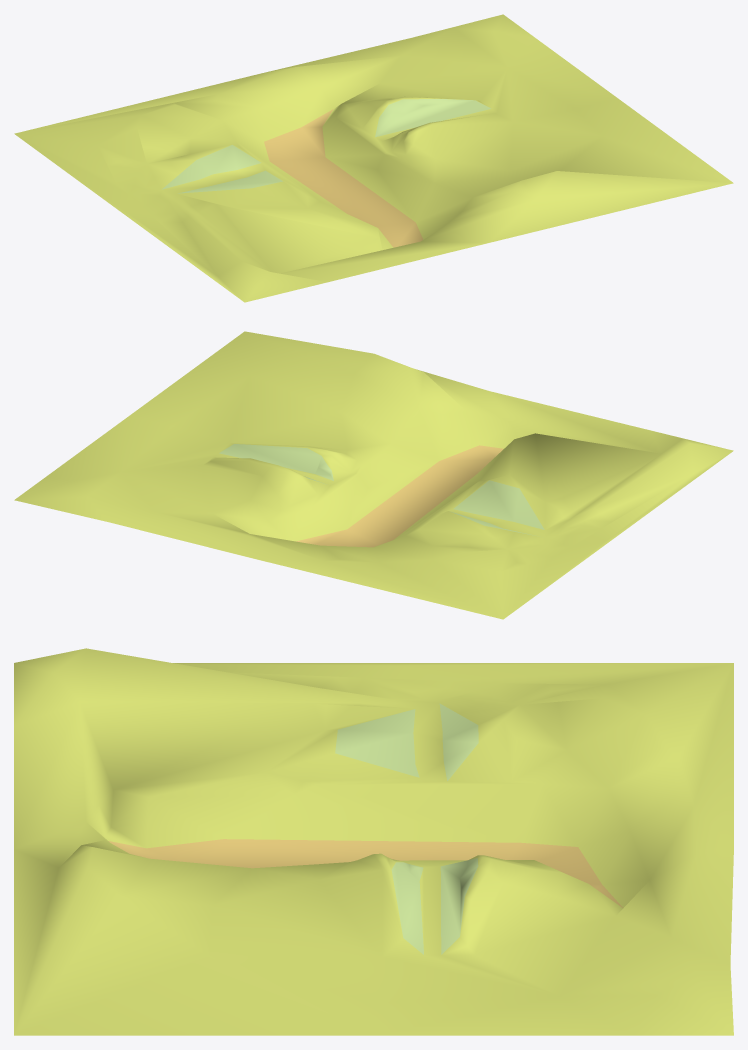
Rendered from ground.fbx.
3 renders of one model, top to bottom at view 1: azimuth 30°, elevation 25°; view 2: azimuth 150°, elevation 25°; view 3: azimuth 270°, elevation 25°, orthographic. The views are drawn at different scales.
Visible parts, largest first — view 1: terraun; view 2: terraun; view 3: terraun.
Boxes of the visible parts, x1,y1,x2,y2 form: terraun: (14, 14, 733, 302); terraun: (14, 331, 733, 619); terraun: (14, 648, 733, 1035).
Size of the model in its own units: 82785 by 9247 by 67601.
